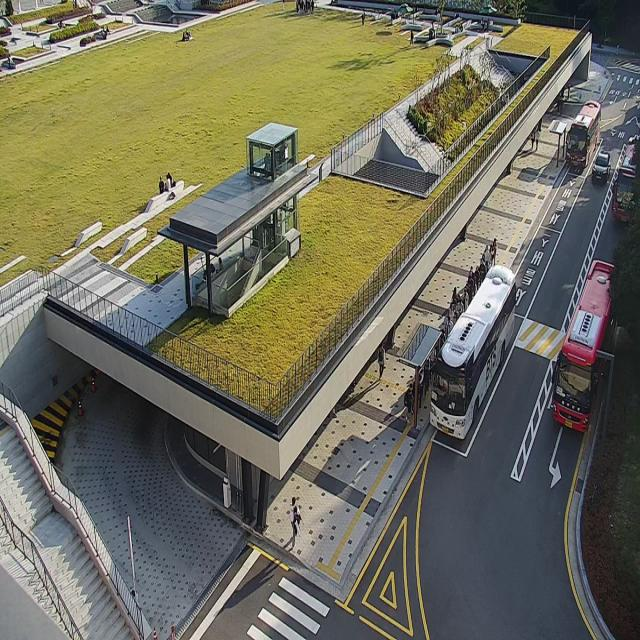queue: (412, 235, 498, 431)
